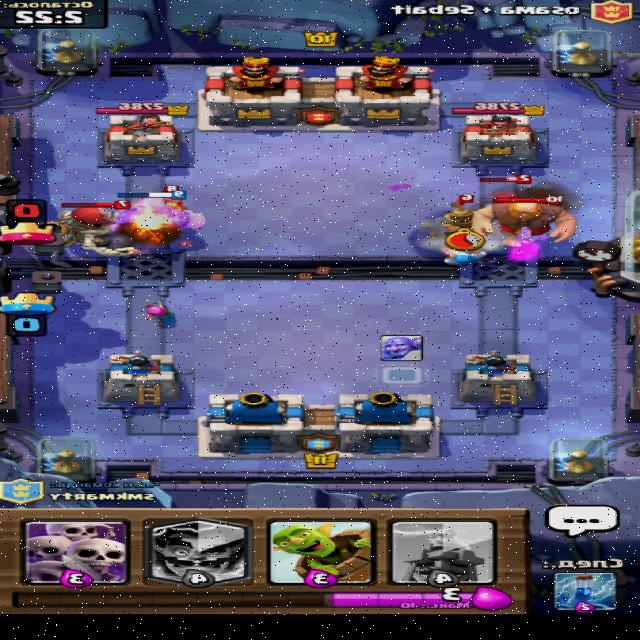Enemy-Giant: (472, 196, 578, 246)
Enemy-GiantSkeleton: (38, 200, 138, 258)
Enemy-NightWitch: (481, 174, 533, 197)
Enemy-Prince: (442, 193, 477, 236)
Enemy-Wizard: (166, 184, 187, 205)
Player-Archer: (137, 298, 180, 328)
Player-Giant: (118, 190, 209, 245)
Player-Wizard: (440, 247, 490, 267)
